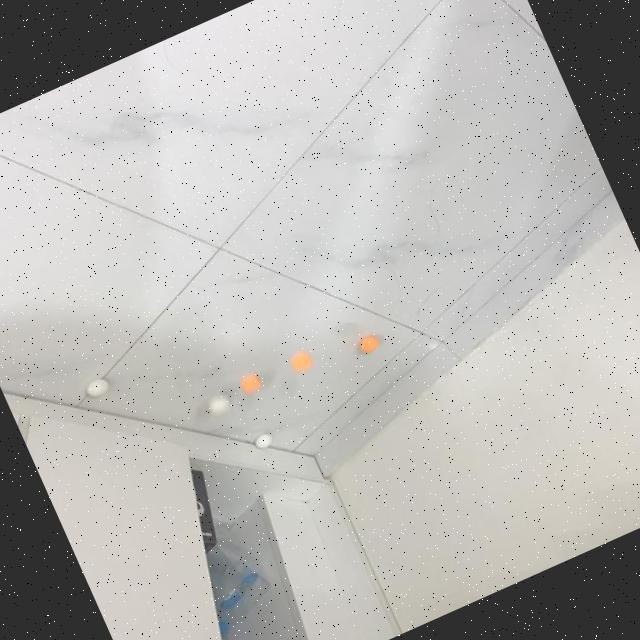ping-pong-ball: (200, 388, 234, 421), (233, 367, 267, 400), (284, 347, 316, 379), (83, 376, 112, 402), (356, 332, 382, 356), (250, 430, 274, 452)
